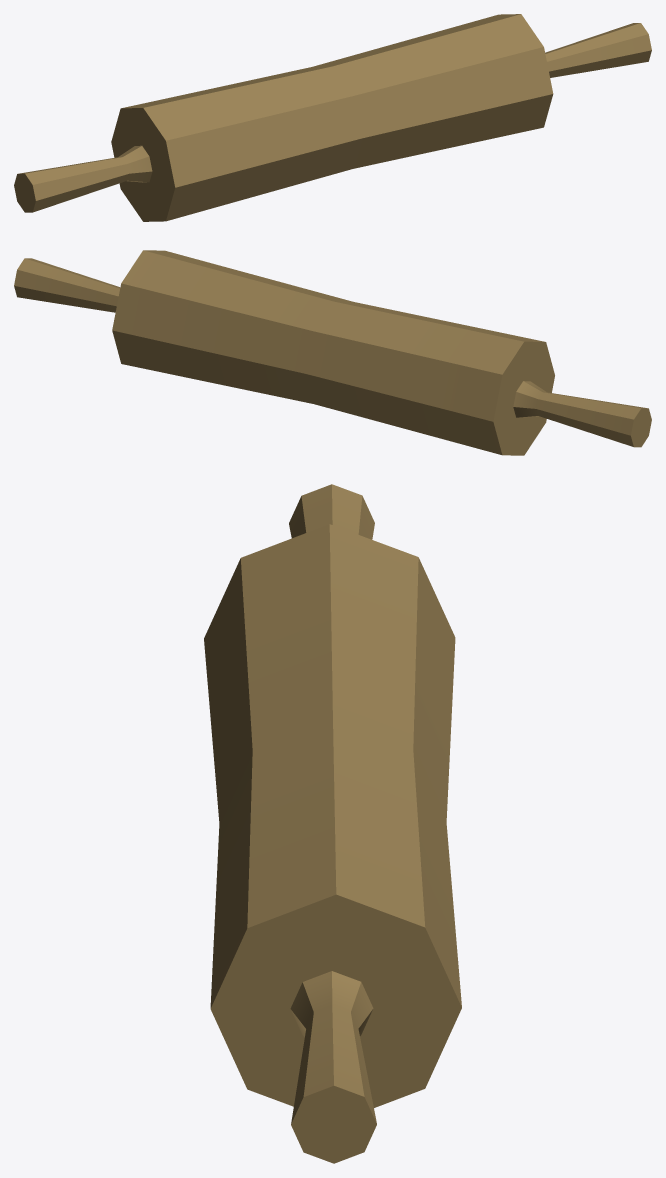
Rendered from skalka.fbx.
The picture shows the model from 3 angles, top to bottom: view 1: azimuth 30°, elevation 25°; view 2: azimuth 150°, elevation 25°; view 3: azimuth 270°, elevation 25°; orthographic projection. The views are drawn at different scales.
Visible parts, largest first — view 1: pCylinder25; view 2: pCylinder25; view 3: pCylinder25.
Boxes of the visible parts, <box> form: pCylinder25: <box>14,14,651,221</box>; pCylinder25: <box>14,250,651,455</box>; pCylinder25: <box>204,484,461,1163</box>.
Size of the model in its own units: 0.8963 by 0.1583 by 0.1625.
